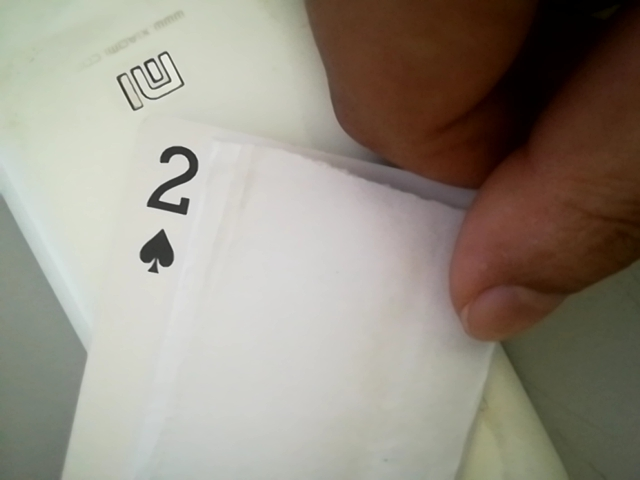ht 2: (121, 114, 223, 283)
